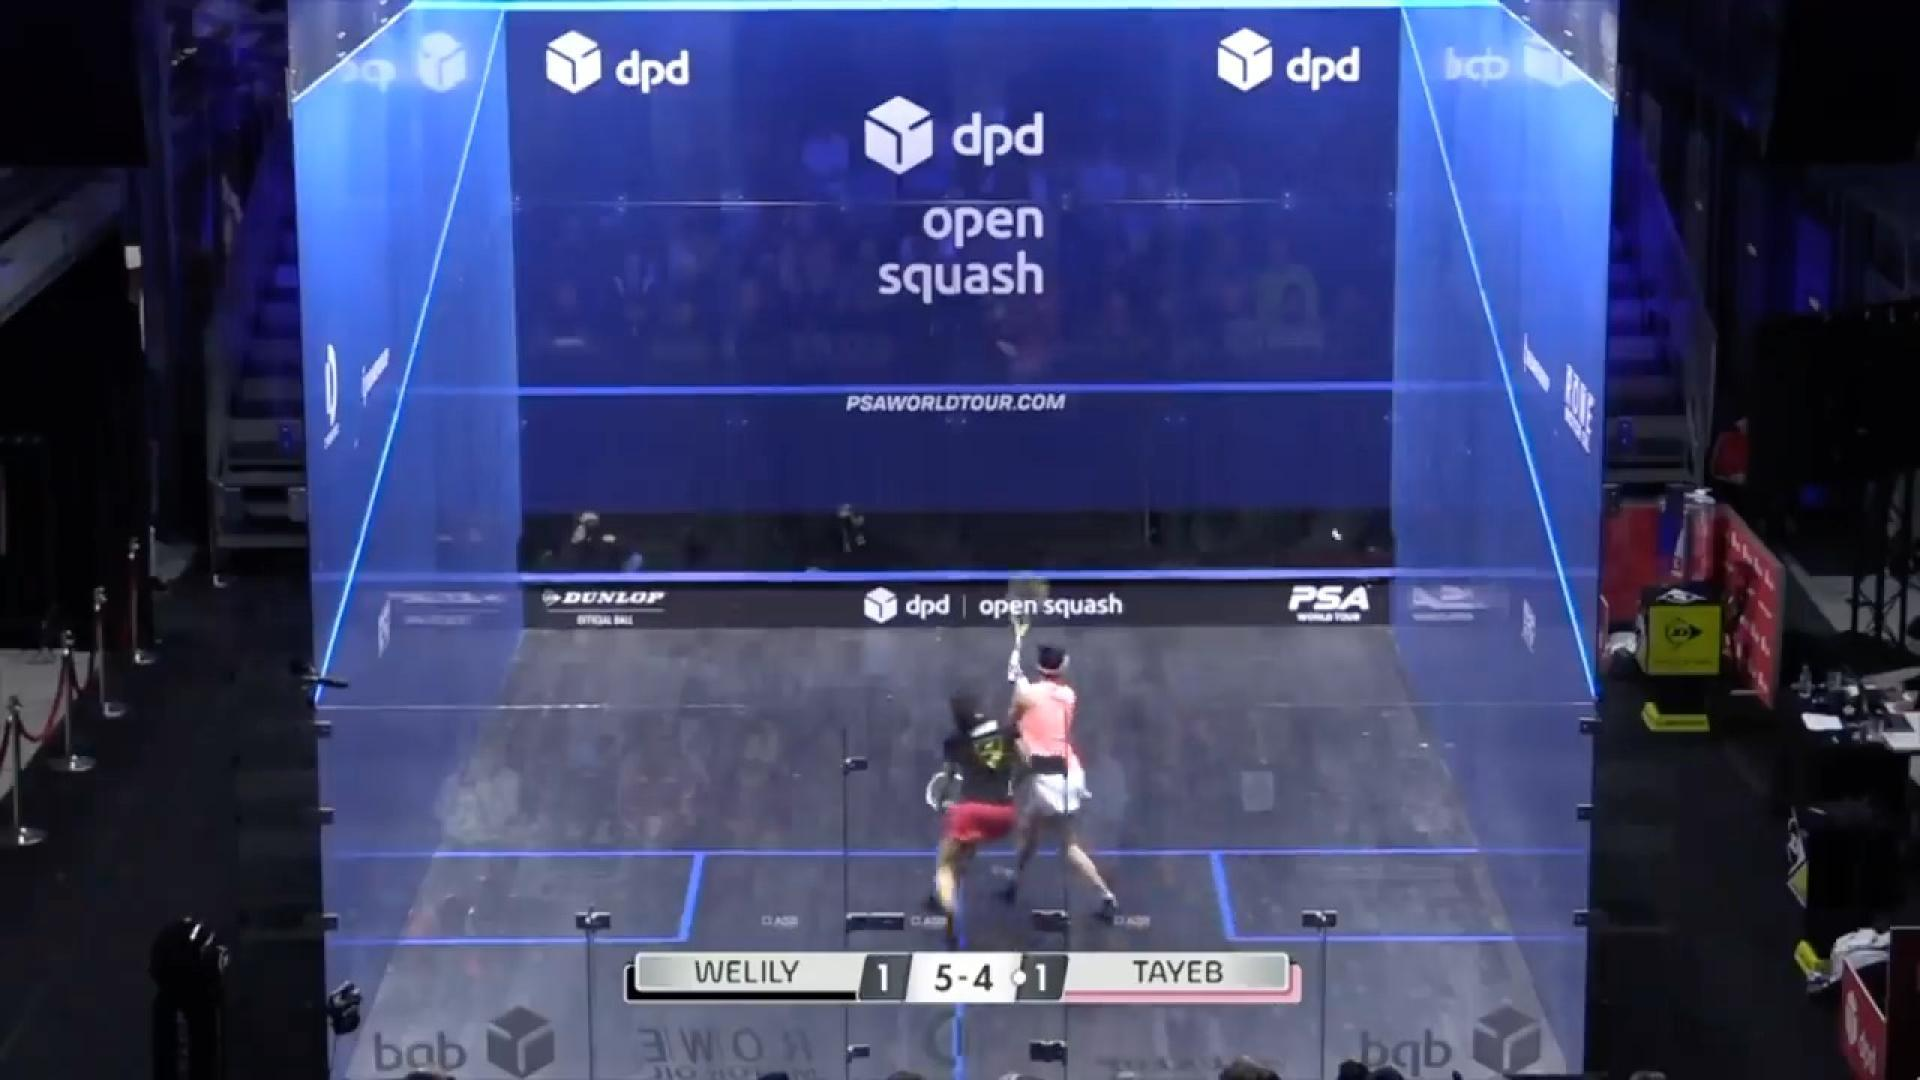Squash-Ball: (1317, 516, 1365, 556)
